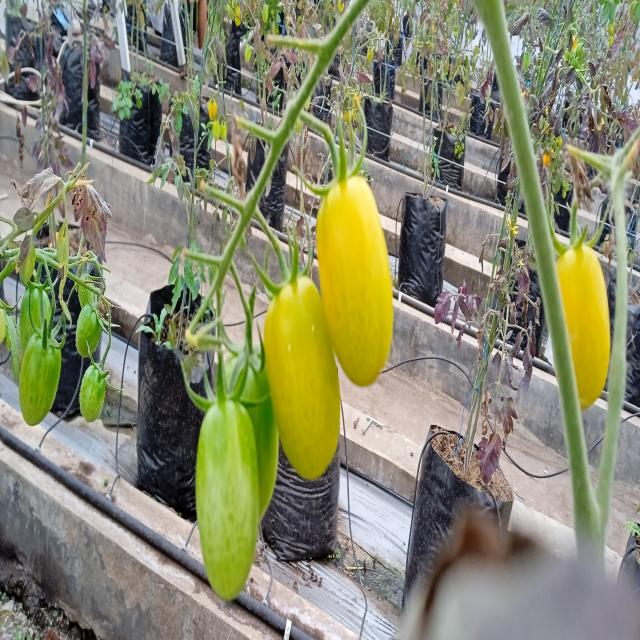fine: (310, 164, 412, 386), (246, 270, 347, 470), (536, 250, 628, 417)
unripe: (182, 390, 278, 590), (21, 314, 66, 428), (72, 355, 112, 437), (21, 272, 50, 345), (79, 307, 103, 362)
